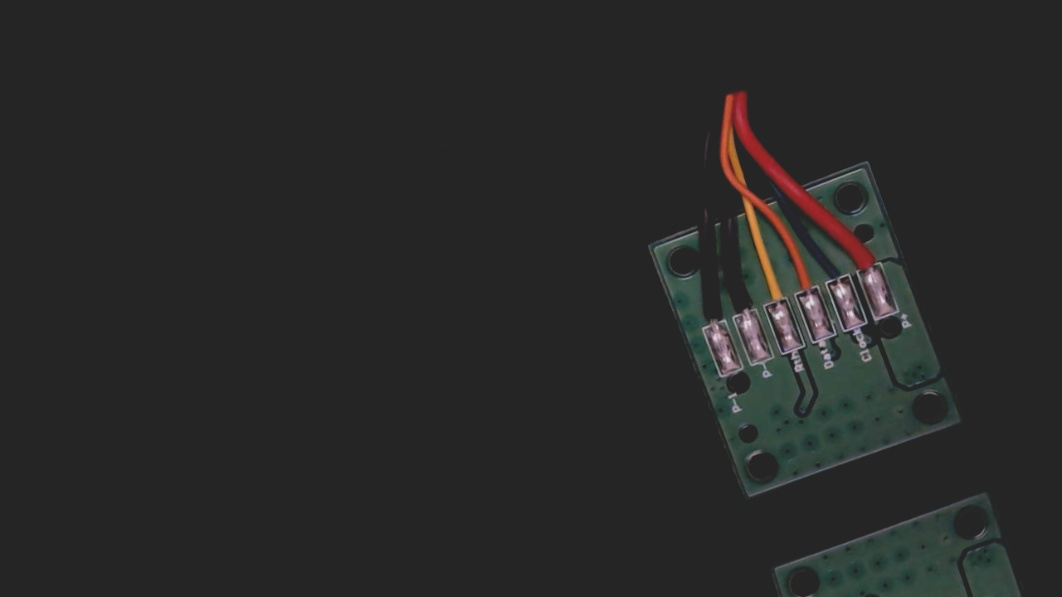Black: (721, 270, 762, 328)
Black1: (686, 278, 731, 339)
Green: (812, 242, 854, 296)
Orange: (783, 252, 824, 306)
Red: (844, 224, 886, 281)
Yellow: (749, 260, 793, 320)
